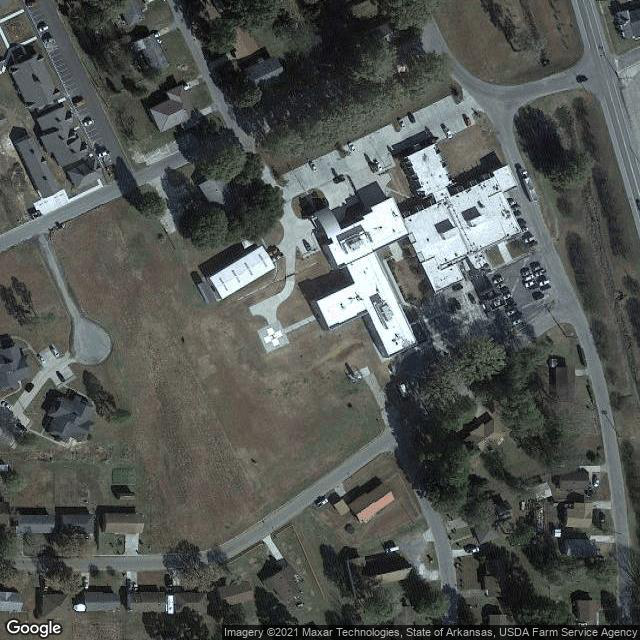Helipad: (258, 326, 287, 349)
